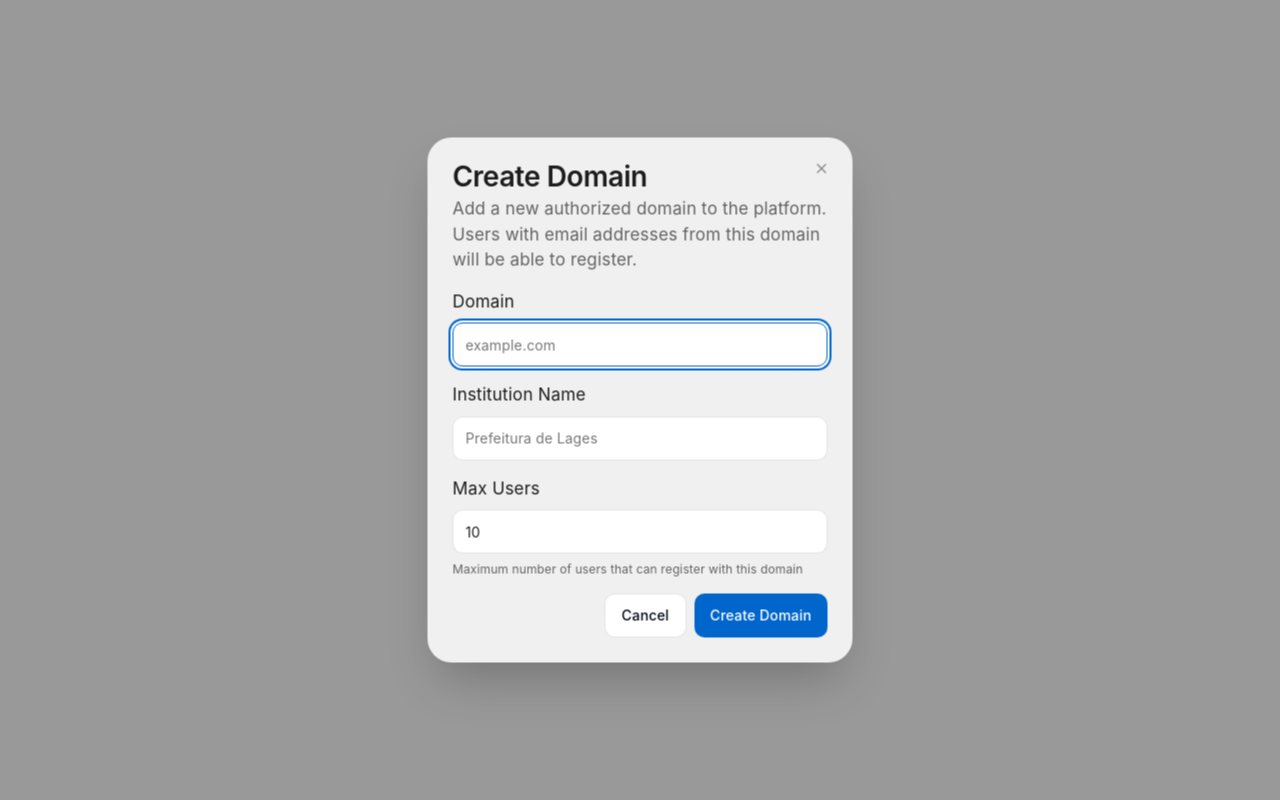
Test: CreateDomainDialog › Validation › should show error for invalid domain format
Type "invalid" into the field labelled "Domain" at (640, 344), box [452,322,828,366]
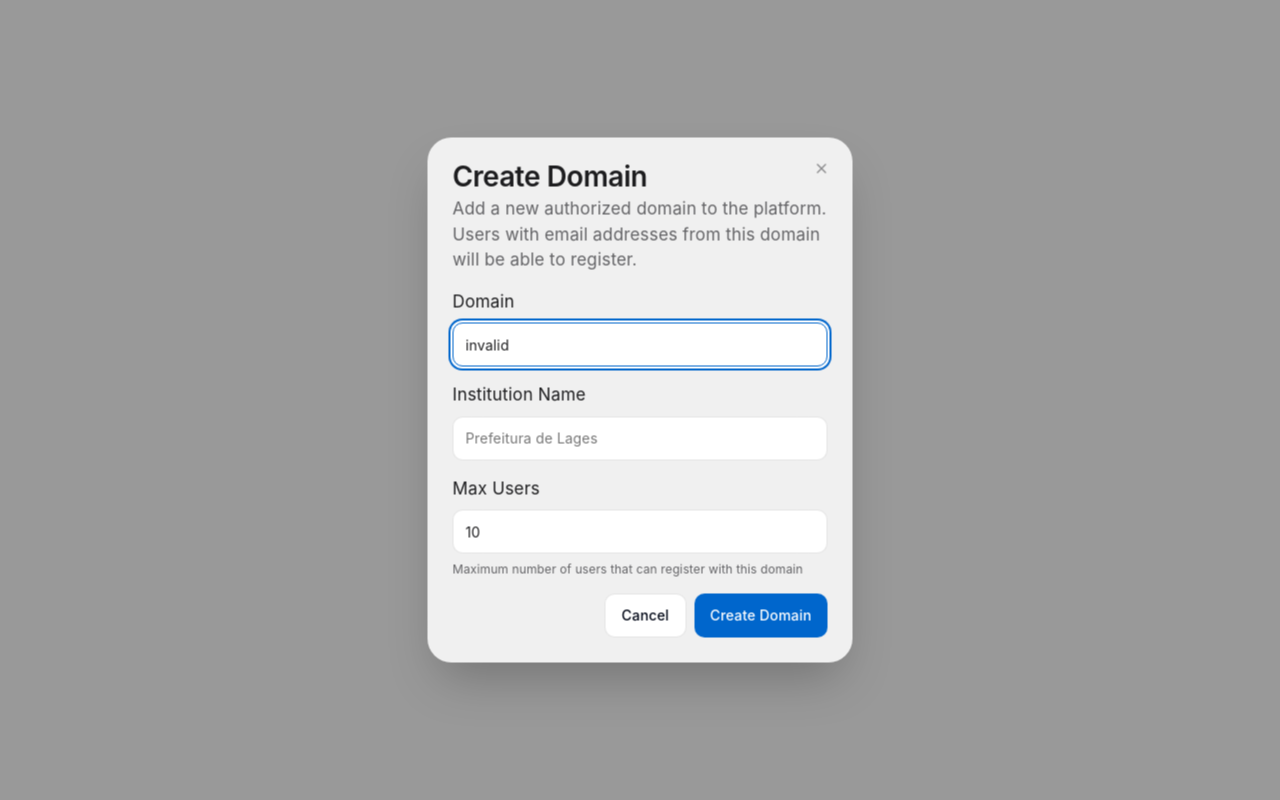
Click the button "Create Domain" at (761, 616), box [694,594,828,638]
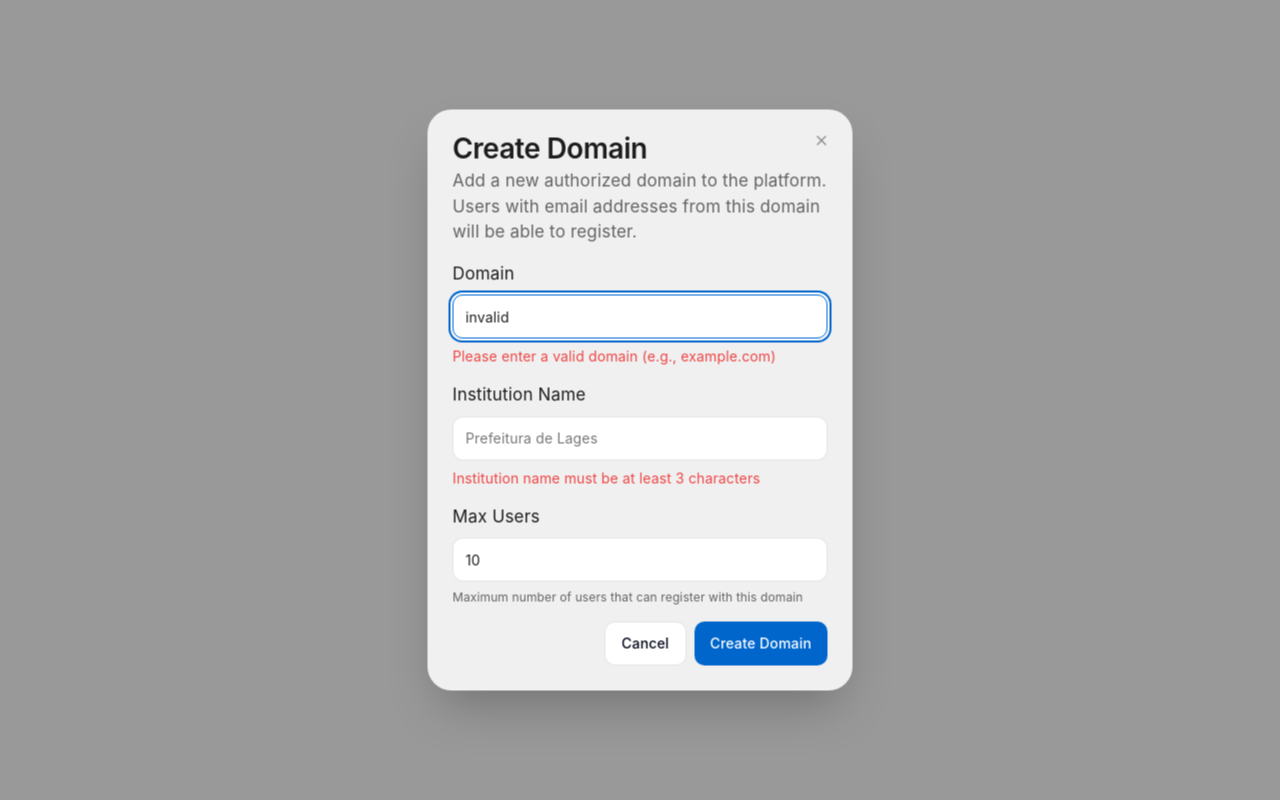
Expected: the text "Please enter a valid domain (e.g., example.com)" is shown, [452,346,828,366]
